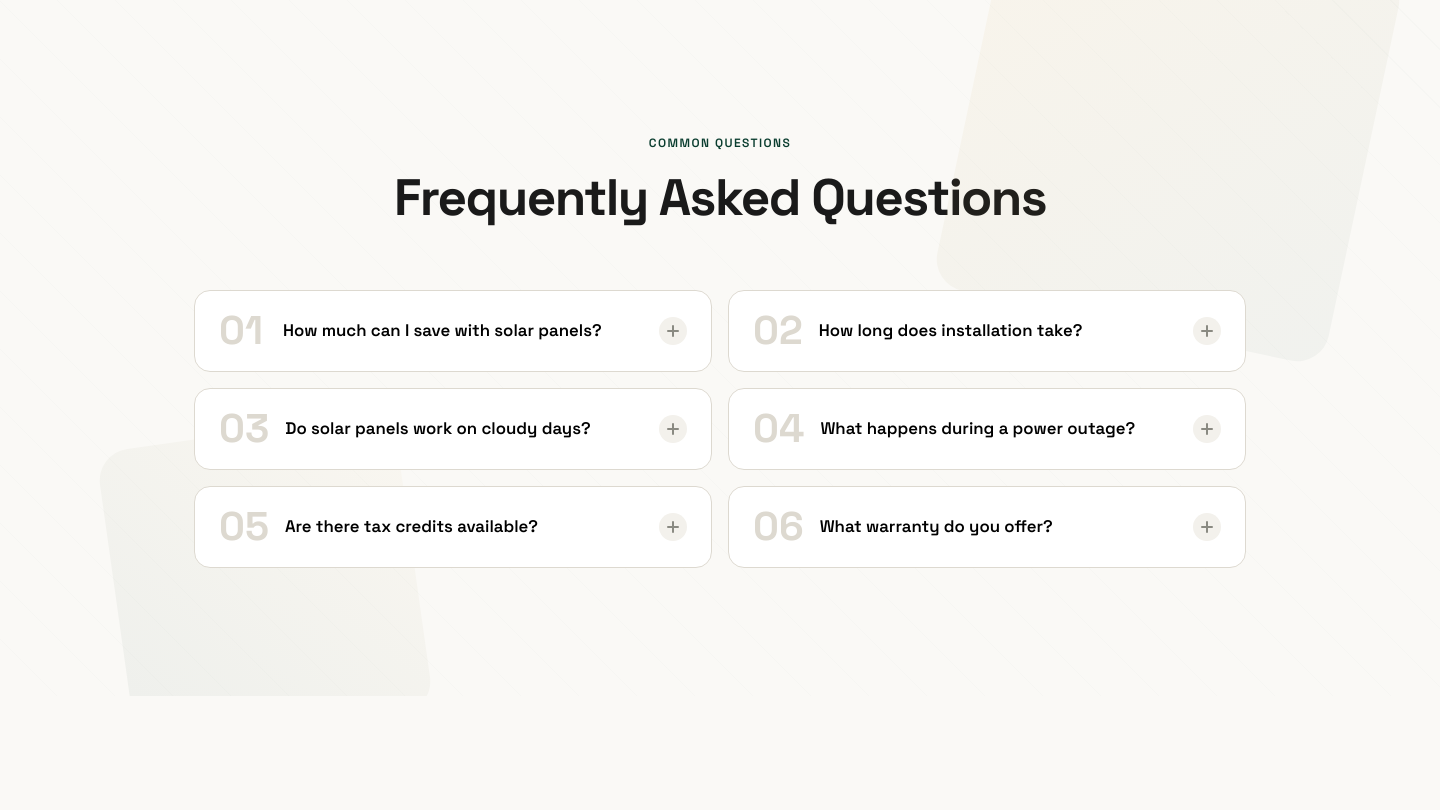
Scenario: FaqSection › collapses answer on second click
Click the button "How much can I save with solar panels?".
click(453, 331)  # box [195,291,711,371]
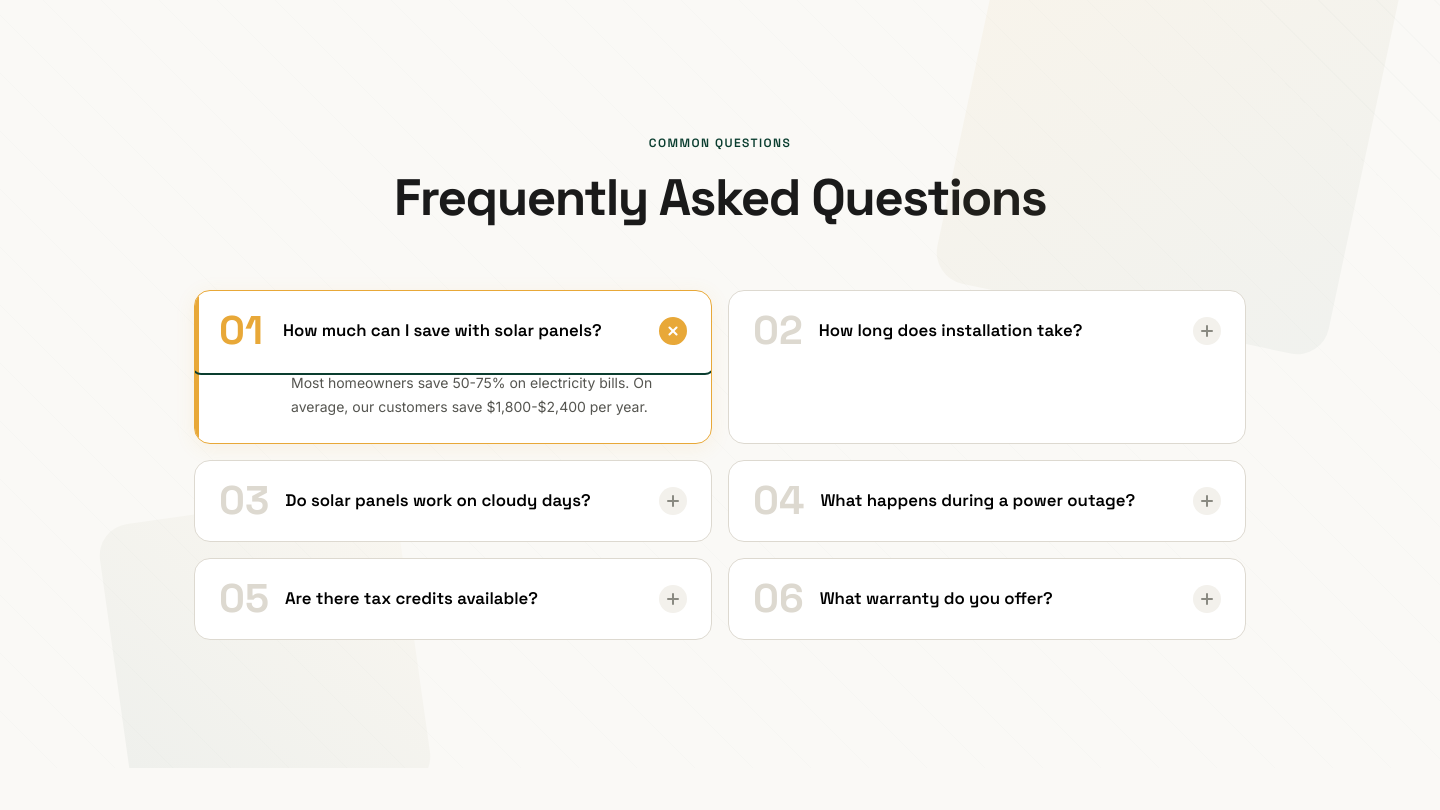
Click the button "How much can I save with solar panels?".
click(453, 331)  # box [195,291,711,371]
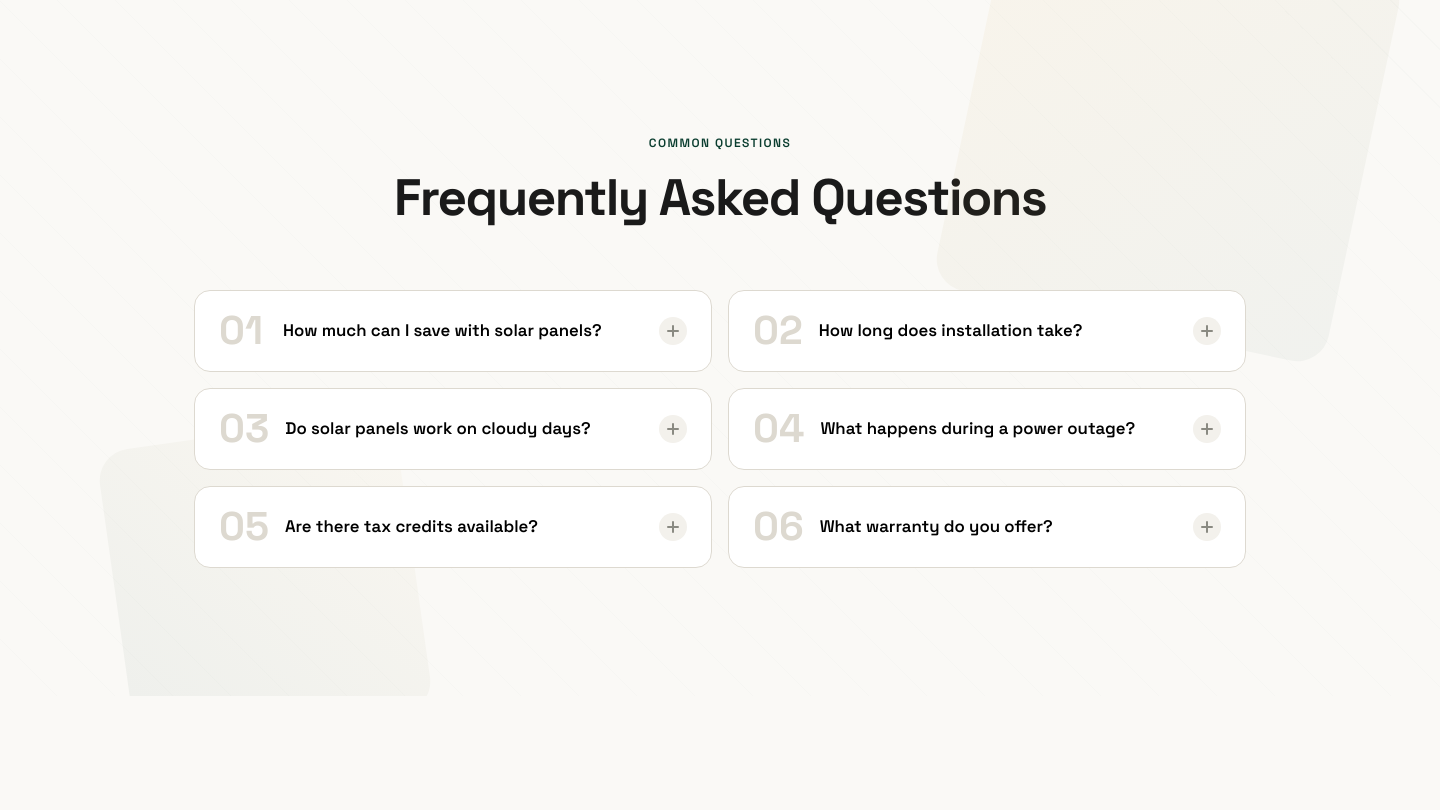
Check: the button "How much can I save with solar panels?" is collapsed, box [195,291,711,371]
